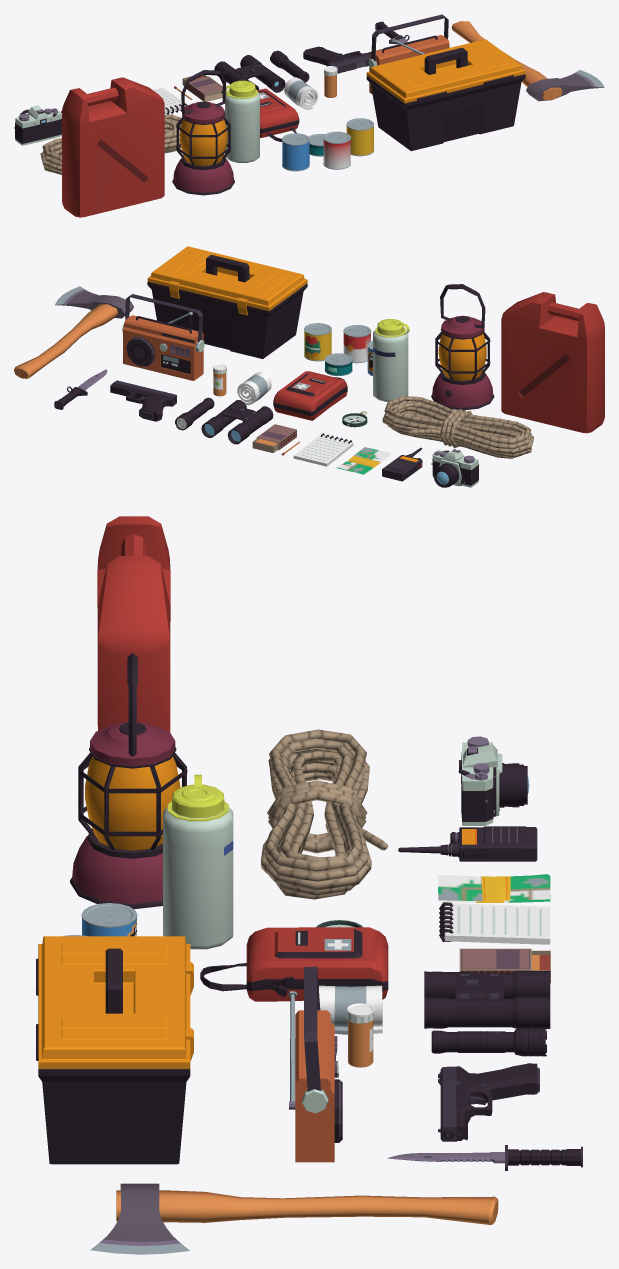
File: survival_props.fbx
3 views of the same model, one above another, from view 1: azimuth 30°, elevation 25°; view 2: azimuth 150°, elevation 25°; view 3: azimuth 270°, elevation 25° (orthographic). The views are drawn at different scales.
Parts seen in each view (by area): view 1: toolbox.001, jerrycan.001, lantern.001, bottle.001, axe.001, radio.001, camera.001, firstaidkit.001, binoculars.001, rope.001, gun.001, can_soup.001 (+8 smaller); view 2: jerrycan.001, toolbox.001, rope.001, lantern.001, radio.001, axe.001, bottle.001, firstaidkit.001, binoculars.001, camera.001, gun.001, notebook.001 (+11 smaller); view 3: toolbox.001, lantern.001, rope.001, jerrycan.001, axe.001, bottle.001, firstaidkit.001, radio.001, binoculars.001, gun.001, camera.001, notebook.001 (+8 smaller).
Part boxes in pixels (left/top/right/bottom): toolbox.001: left=366, top=39, right=525, bottom=151; jerrycan.001: left=62, top=77, right=164, bottom=217; lantern.001: left=172, top=70, right=234, bottom=195; bottle.001: left=225, top=80, right=259, bottom=162; axe.001: left=451, top=21, right=604, bottom=101; radio.001: left=368, top=14, right=449, bottom=94; camera.001: left=14, top=105, right=61, bottom=145; firstaidkit.001: left=257, top=88, right=299, bottom=141; binoculars.001: left=214, top=55, right=285, bottom=92; rope.001: left=40, top=114, right=181, bottom=174; gun.001: left=303, top=46, right=382, bottom=73; can_soup.001: left=323, top=131, right=350, bottom=169; jerrycan.001: left=501, top=292, right=604, bottom=433; toolbox.001: left=147, top=246, right=307, bottom=358; rope.001: left=382, top=396, right=533, bottom=458; lantern.001: left=431, top=284, right=494, bottom=410; radio.001: left=122, top=294, right=204, bottom=380; axe.001: left=14, top=286, right=133, bottom=378; bottle.001: left=373, top=319, right=409, bottom=401; firstaidkit.001: left=273, top=371, right=347, bottom=420; binoculars.001: left=201, top=400, right=273, bottom=444; camera.001: left=431, top=449, right=479, bottom=487; gun.001: left=110, top=380, right=176, bottom=421; notebook.001: left=293, top=433, right=353, bottom=466; toolbox.001: left=36, top=936, right=193, bottom=1164; lantern.001: left=70, top=653, right=187, bottom=909; rope.001: left=261, top=729, right=387, bottom=899; jerrycan.001: left=97, top=516, right=170, bottom=732; axe.001: left=90, top=1183, right=498, bottom=1254; bottle.001: left=163, top=774, right=233, bottom=949; firstaidkit.001: left=200, top=927, right=388, bottom=1001; radio.001: left=288, top=966, right=342, bottom=1162; binoculars.001: left=424, top=971, right=550, bottom=1028; gun.001: left=438, top=1063, right=539, bottom=1141; camera.001: left=458, top=736, right=529, bottom=825; notebook.001: left=439, top=902, right=550, bottom=944.
Size of the model in its own units: 188 by 42.05 by 83.98.
